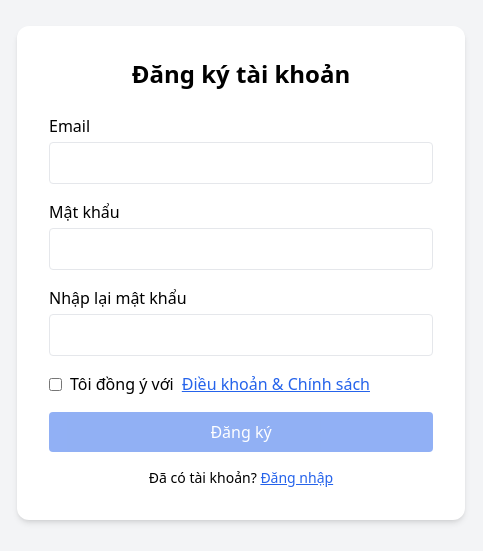
Test: RegisterPage Integration Test › shows error if email already registered
Type "test@example.com" into the field labelled "Email" at (241, 163), box [49, 142, 433, 184]
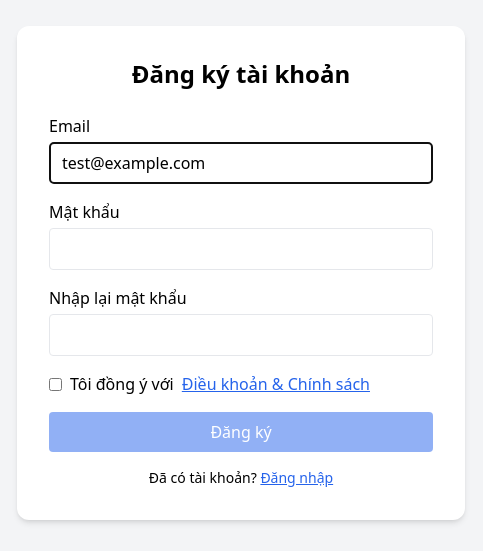
Leave the field labelled "Email", box [49, 142, 433, 184]
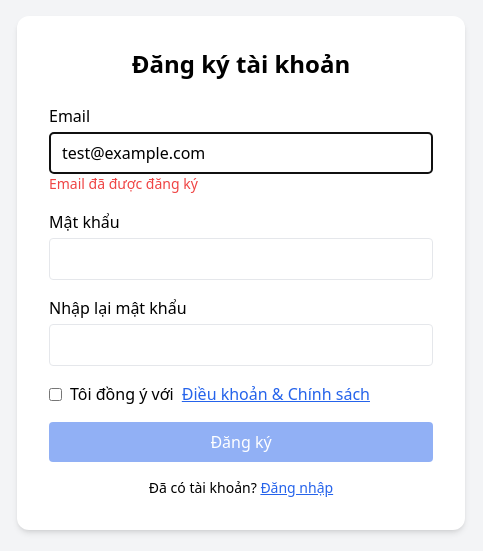
Expected: the text "Email đã được đăng ký" is shown, [49, 174, 198, 193]
